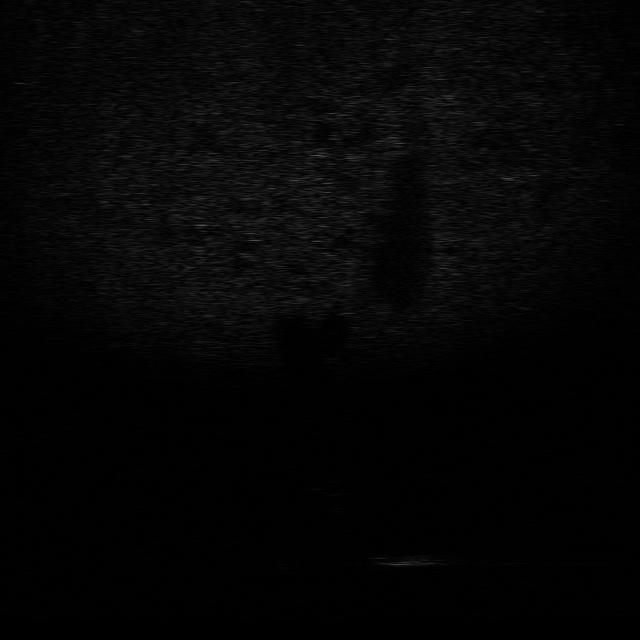ball: (312, 469, 352, 498)
metal bucket: (369, 549, 465, 569)
tyre: (270, 546, 319, 576)
